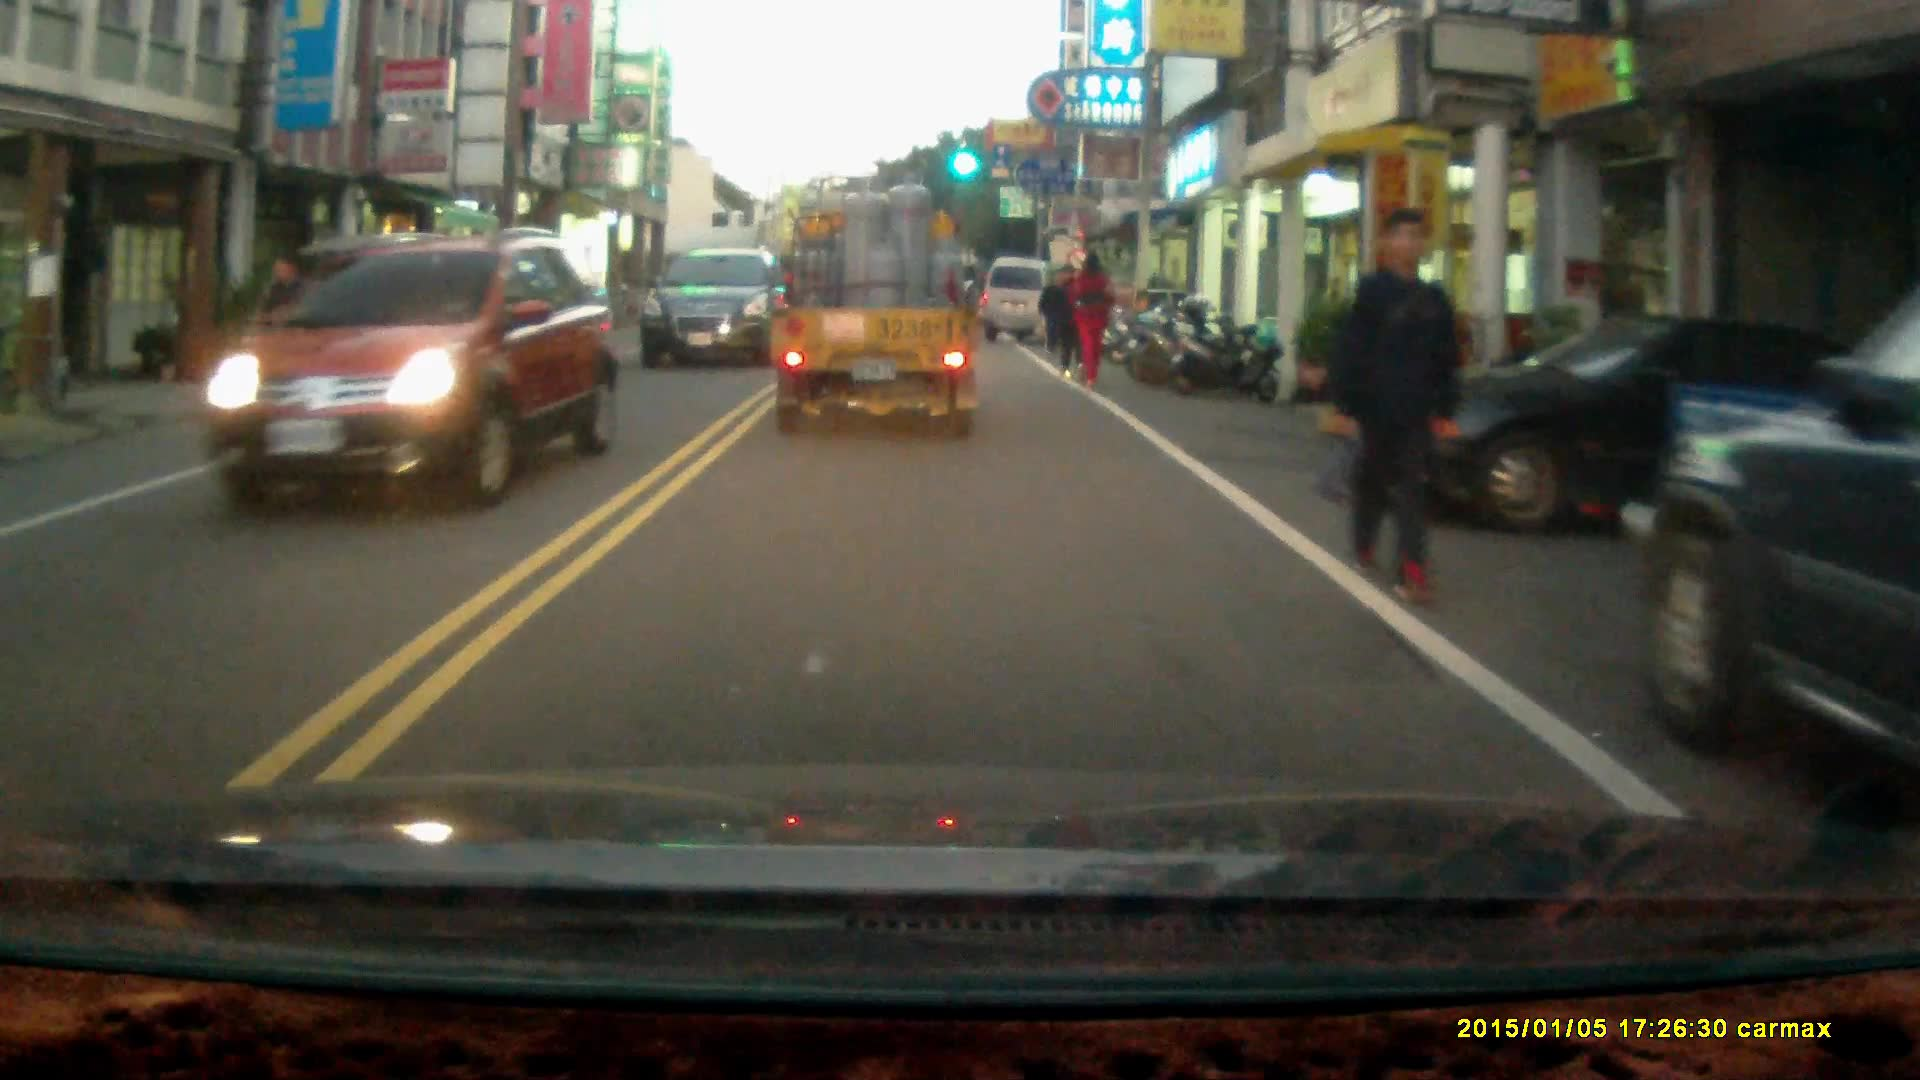pedestrian: (1327, 204, 1465, 603), (1072, 247, 1112, 385), (1050, 261, 1085, 378)
vehicle: (1633, 268, 1920, 769), (1362, 311, 1889, 543), (205, 233, 620, 513), (770, 199, 985, 477), (638, 248, 787, 374), (984, 259, 1064, 347)
